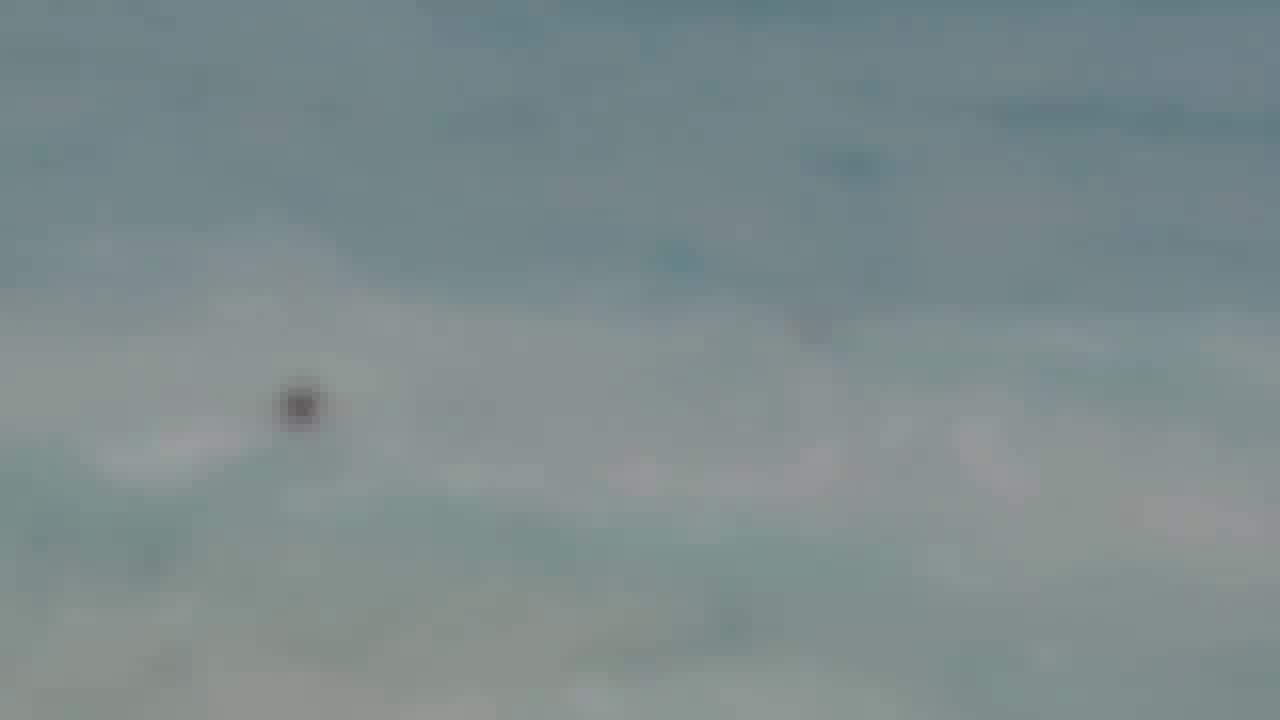swimmer: (262, 372, 332, 432)
